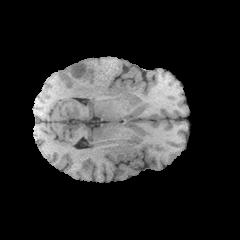glioma: (60, 62, 107, 98)
